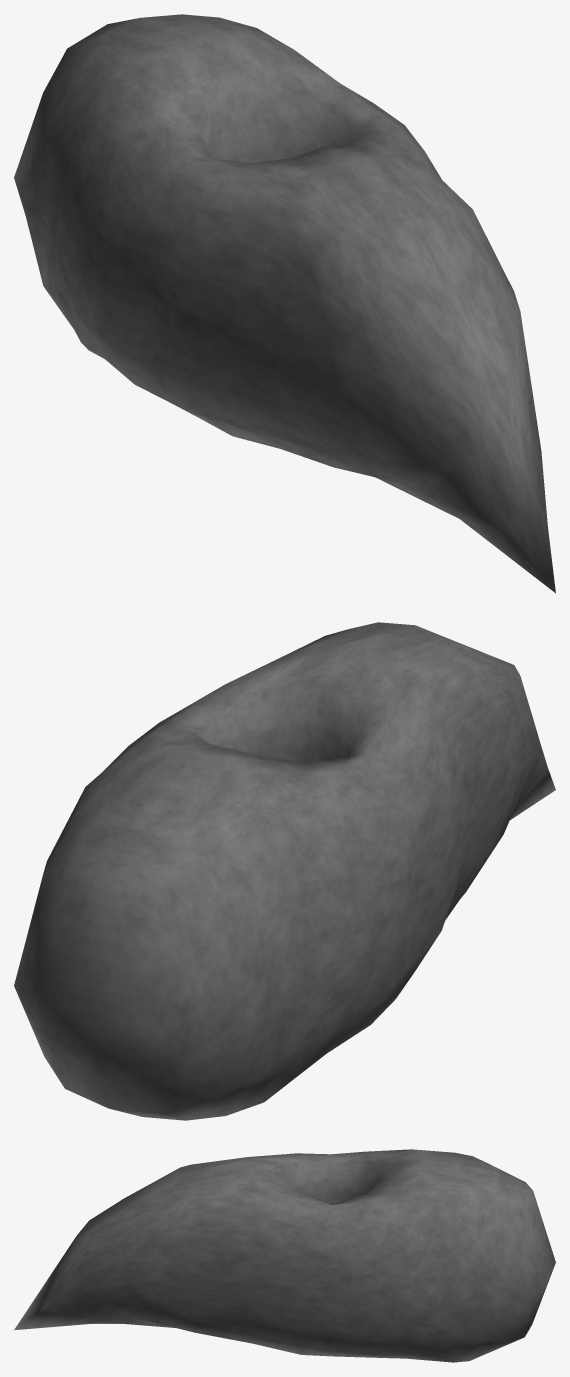
The model's file is MakeshiftPickaxeHead.fbx.
3 views of the same model, one above another, from view 1: azimuth 30°, elevation 25°; view 2: azimuth 150°, elevation 25°; view 3: azimuth 270°, elevation 25° (orthographic). The views are drawn at different scales.
Visible parts, largest first — view 1: HammerHead-Pickaxe; view 2: HammerHead-Pickaxe; view 3: HammerHead-Pickaxe.
Boxes of the visible parts, x1,y1,x2,y2 form: HammerHead-Pickaxe: (14, 14, 555, 593); HammerHead-Pickaxe: (14, 622, 555, 1120); HammerHead-Pickaxe: (14, 1149, 555, 1362).
Bounding box in the file's own units: 37.37 × 38.71 × 103.
Materials: 1 (1 with a texture image).
